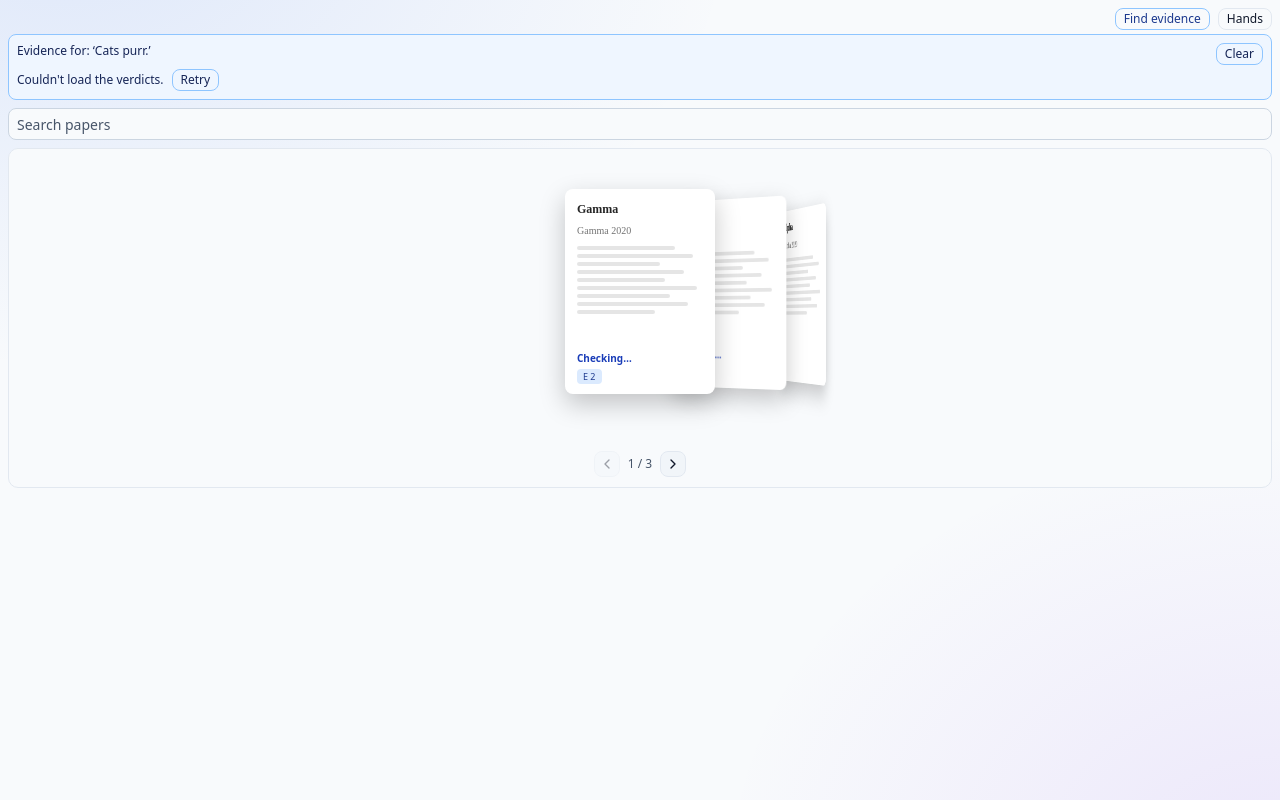
stops polling when the verdicts keep failing to load, says so, and Retry loads them again
Check: the element named "Papers" is shown, box [8,148,1272,488]
Check: the text "Evidence for: ‘Cats purr.’" is shown, box [17,43,150,59]
Click the button "Retry".
click(195, 80)  # box [172,69,219,91]
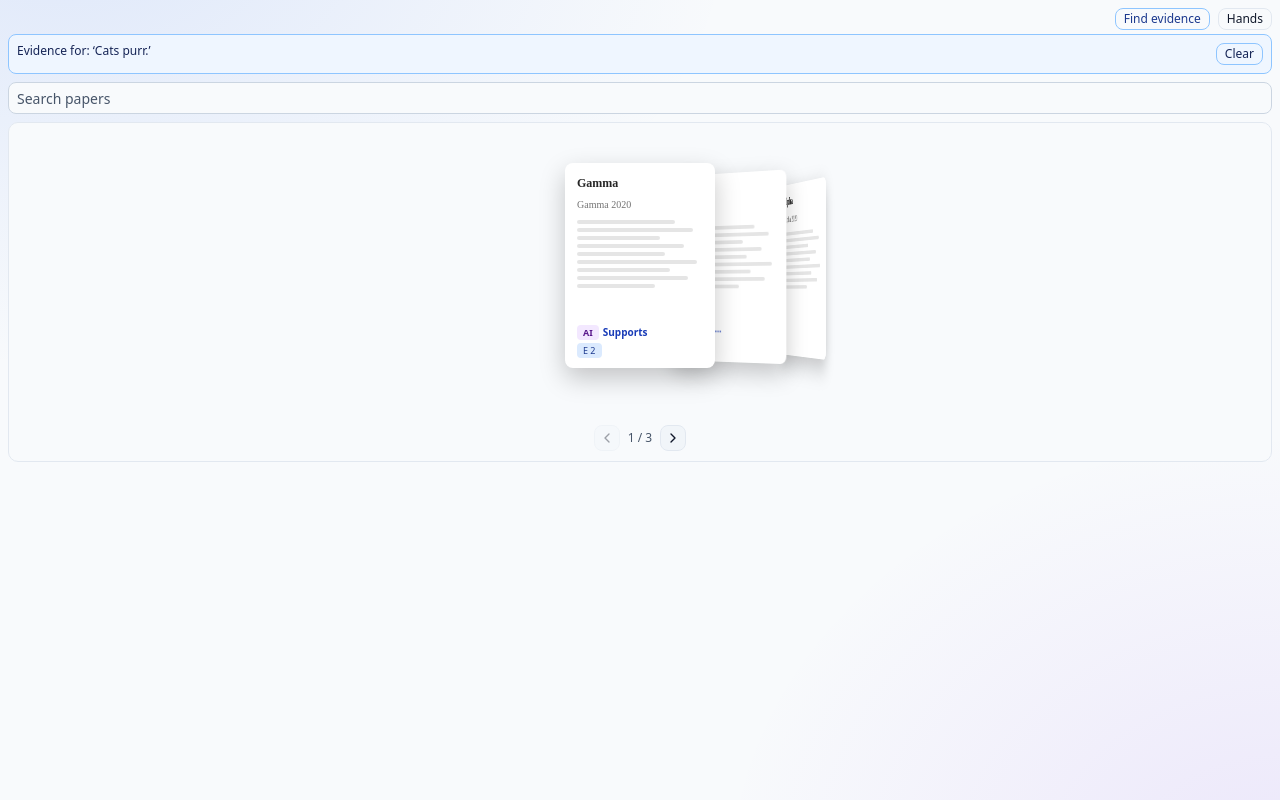
Check: the text "Couldn't load the verdicts." is gone
